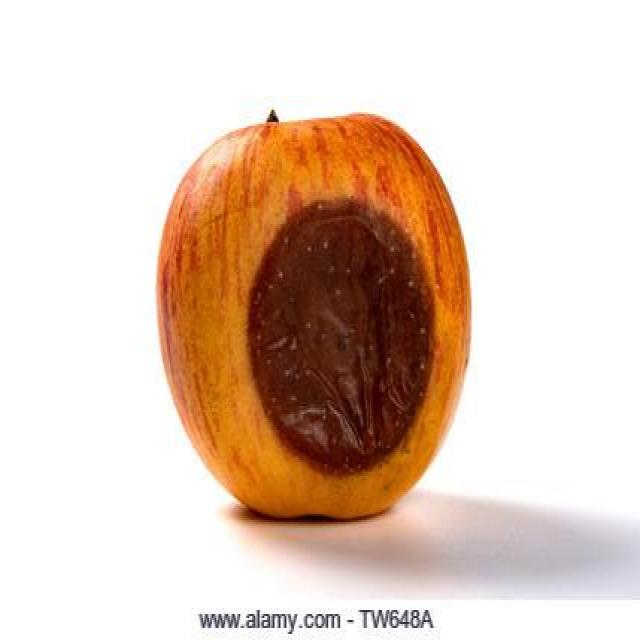Rotten: (161, 104, 468, 531)
